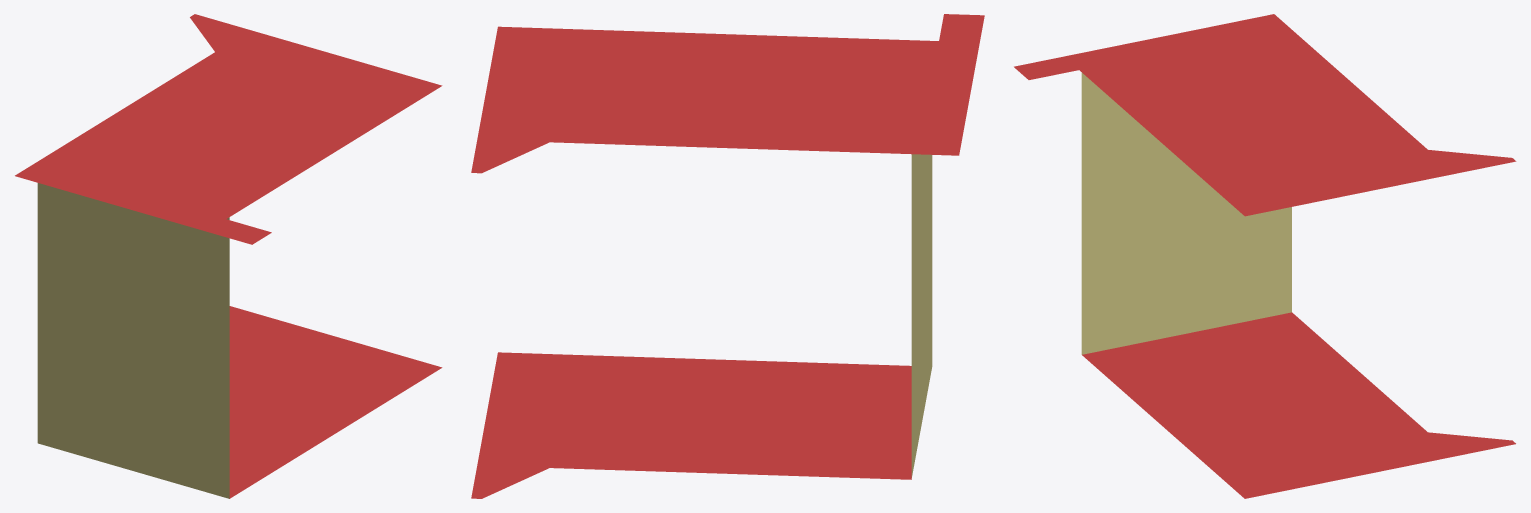
3 renders of one model, left to right at view 1: azimuth 30°, elevation 25°; view 2: azimuth 150°, elevation 25°; view 3: azimuth 270°, elevation 25°, orthographic. The views are drawn at different scales.
Bounding box in the file's own units: 8.68 × 9.11 × 5.65.
